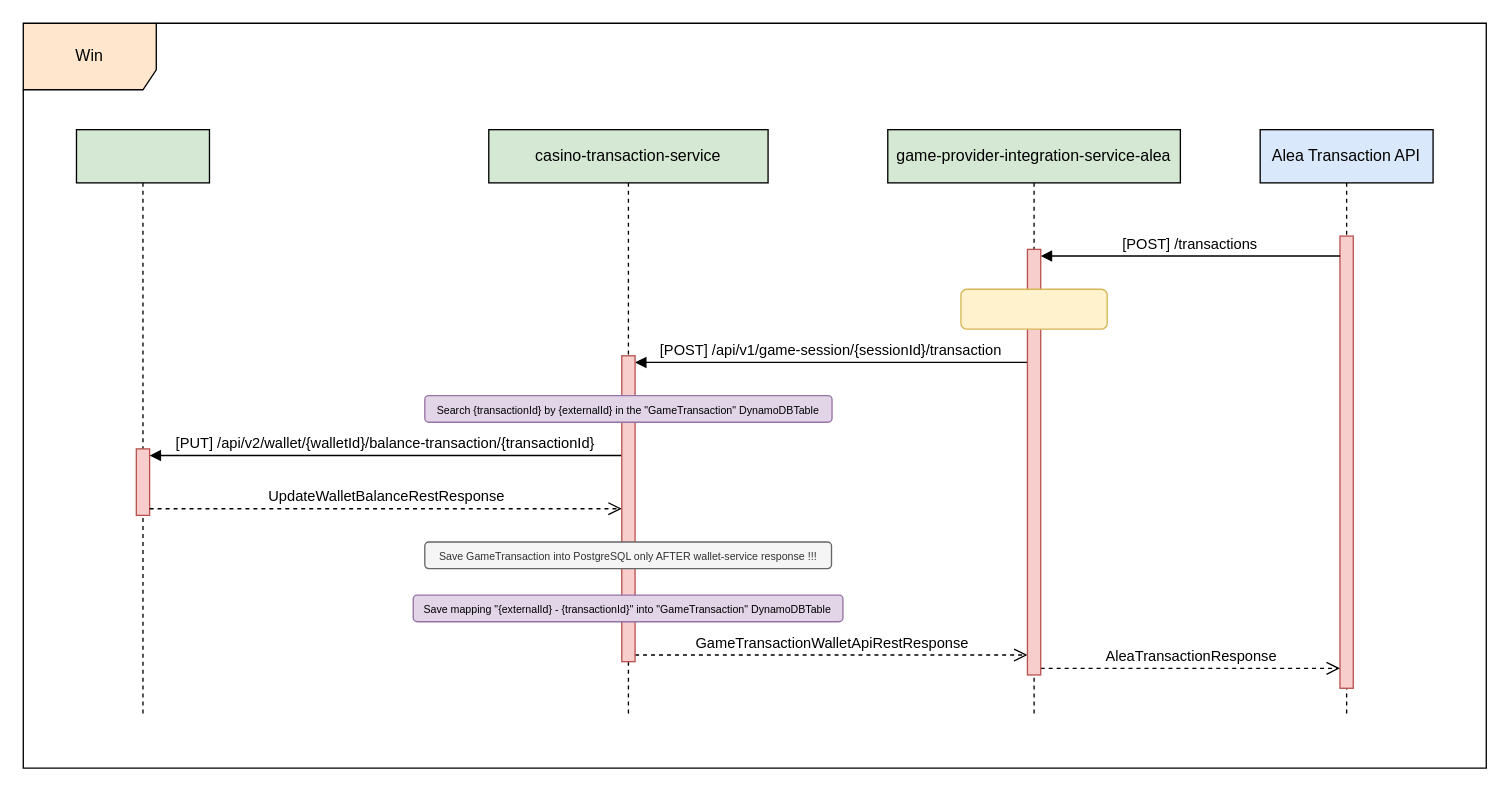
Some shapes in this 1510 by 791 pixel diagram are drawn without their labels. Here are the shapes that lost their labels. From the top down, the centre of each, then its label:
At (x=1033, y=308): "Validate Signature".
At (x=142, y=421): "wallet-service".
